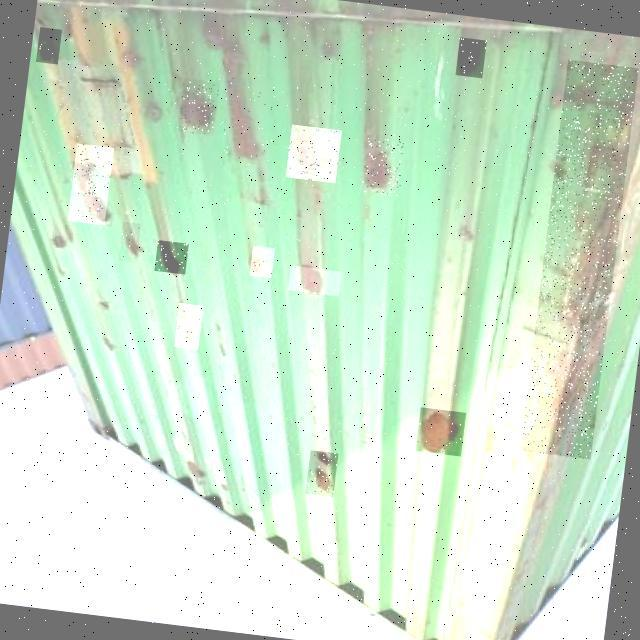Rust: (520, 59, 639, 459), (216, 66, 282, 163), (68, 143, 114, 225), (285, 124, 341, 183), (360, 137, 405, 197), (415, 407, 466, 456), (177, 78, 219, 136), (288, 265, 342, 296), (306, 450, 339, 497), (174, 303, 203, 350), (455, 37, 486, 78), (154, 240, 188, 274), (118, 221, 141, 263), (36, 27, 62, 64), (249, 245, 275, 277)
